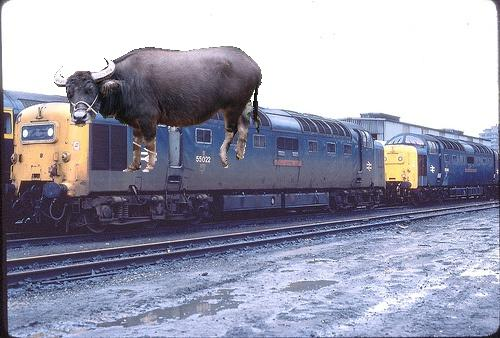tampered: (55, 47, 262, 172)
